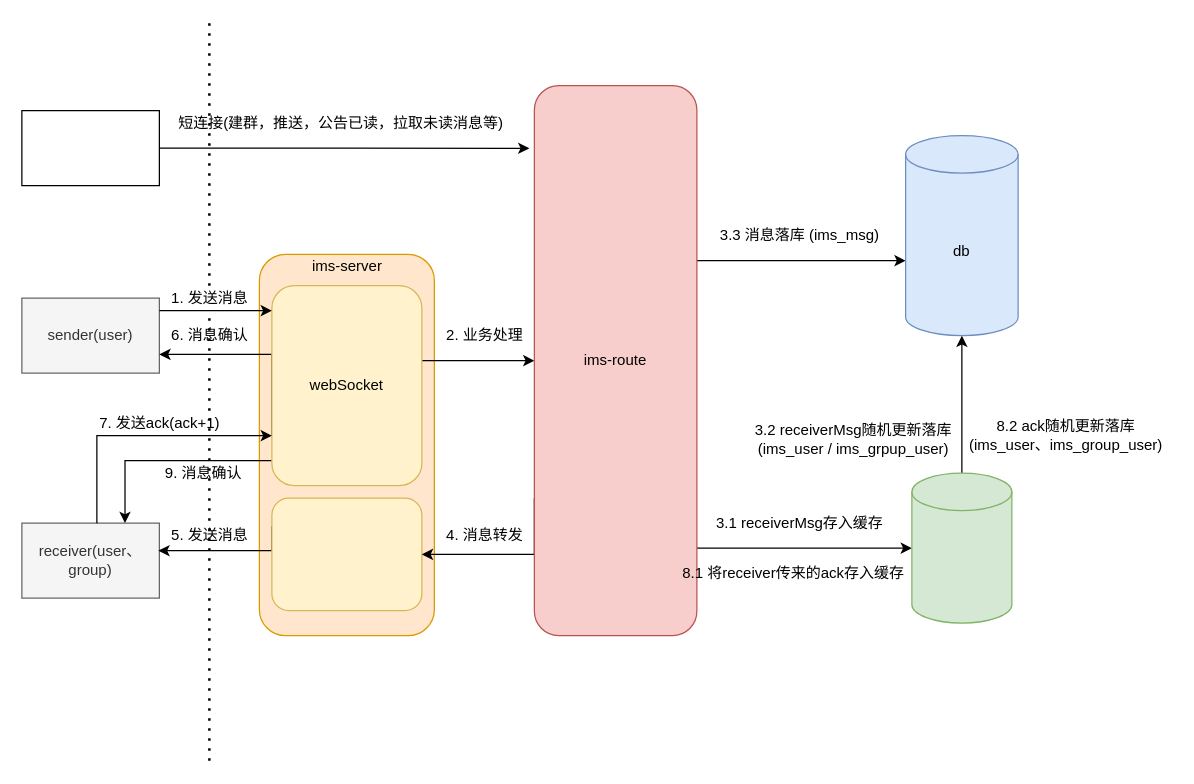
This 1194x784 diagram has some shape labels left out. The shapes that lost their labels are listed below. From the top down, each one's box as (x1, y1, x2, y2) in pixels, then its label:
(21, 109, 159, 186): app/admin
(271, 497, 422, 611): controller
(911, 472, 1012, 623): redis
